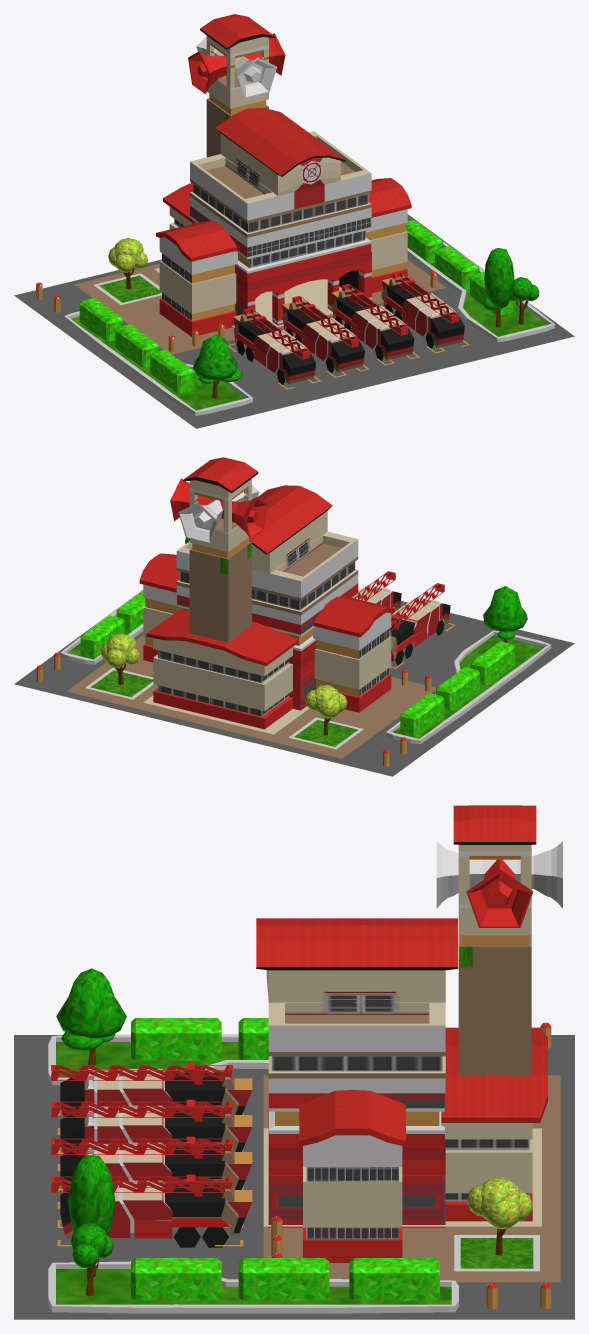
File: firestation_LV2.fbx
3 renders of one model, top to bottom at view 1: azimuth 30°, elevation 25°; view 2: azimuth 150°, elevation 25°; view 3: azimuth 270°, elevation 25°, orthographic. The views are drawn at different scales.
Visible parts, largest first — view 1: firestation 2; view 2: firestation 2; view 3: firestation 2.
Part boxes in pixels (x1,y1,x2,y2): firestation 2: (14, 14, 574, 428); firestation 2: (14, 457, 574, 776); firestation 2: (14, 805, 574, 1319).
Bounding box in the file's own units: 120 × 73.47 × 100.
